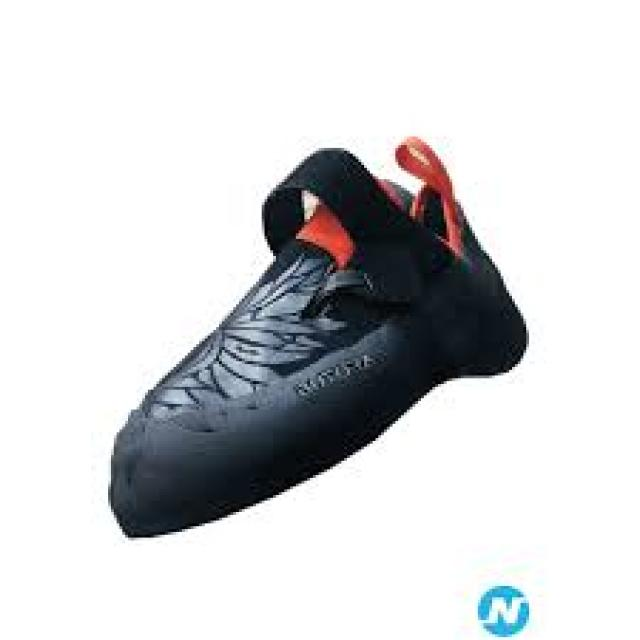climbing-shoes: (109, 134, 528, 541)
